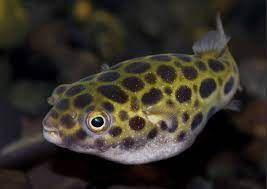Green Spotted Puffer: (43, 10, 245, 166)
